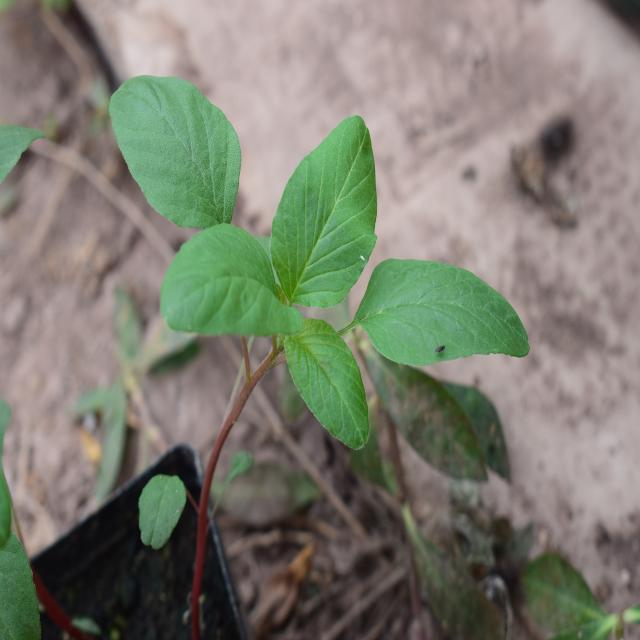pigweed: (113, 59, 510, 470)
